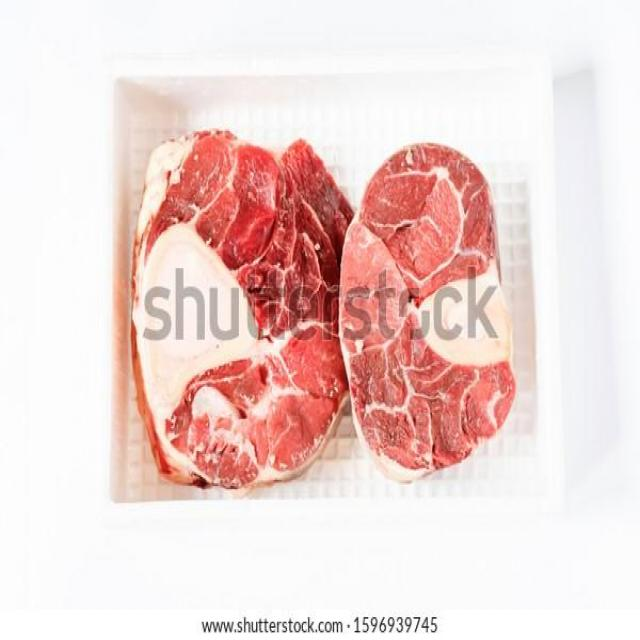beef: (131, 117, 359, 274)
